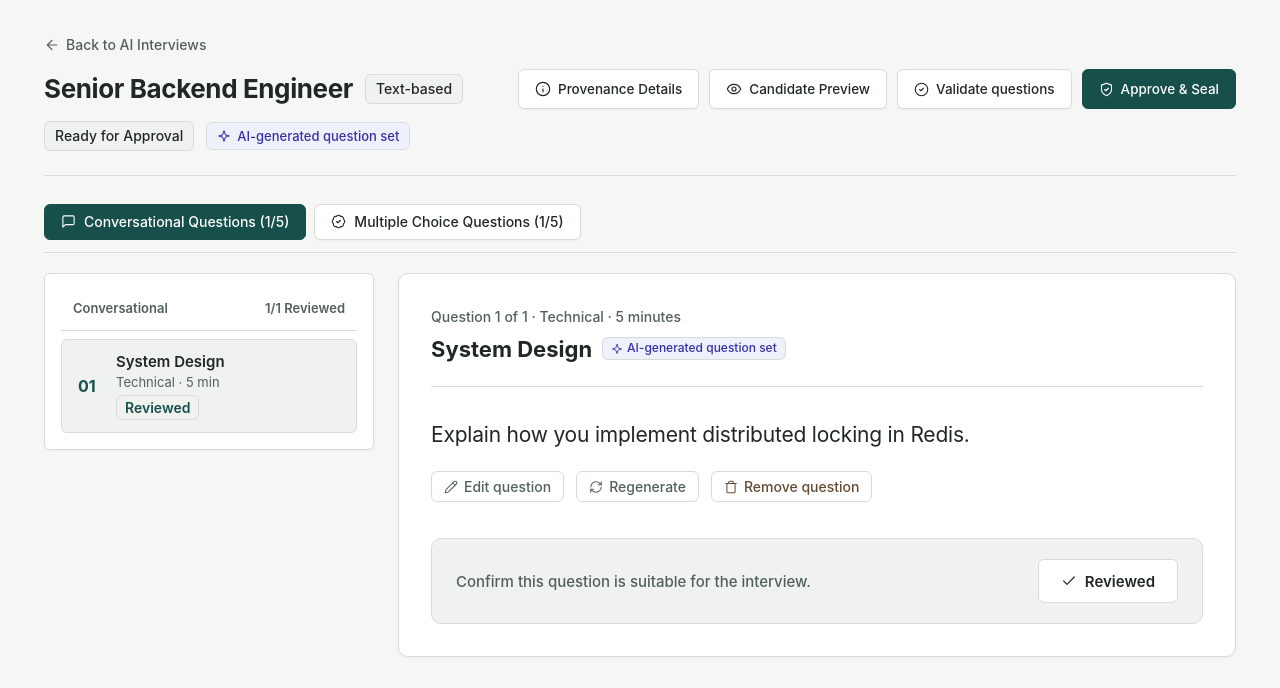
Test case: Phase 3G.1 Frontend Provenance & Release Eligibility › opens compact provenance details drawer when clicking View Provenance
Expected: the heading "Senior Backend Engineer" is shown, [44,69,353,109]
Click the button "Provenance Details". click: (609, 89)
box: [518,69,699,109]
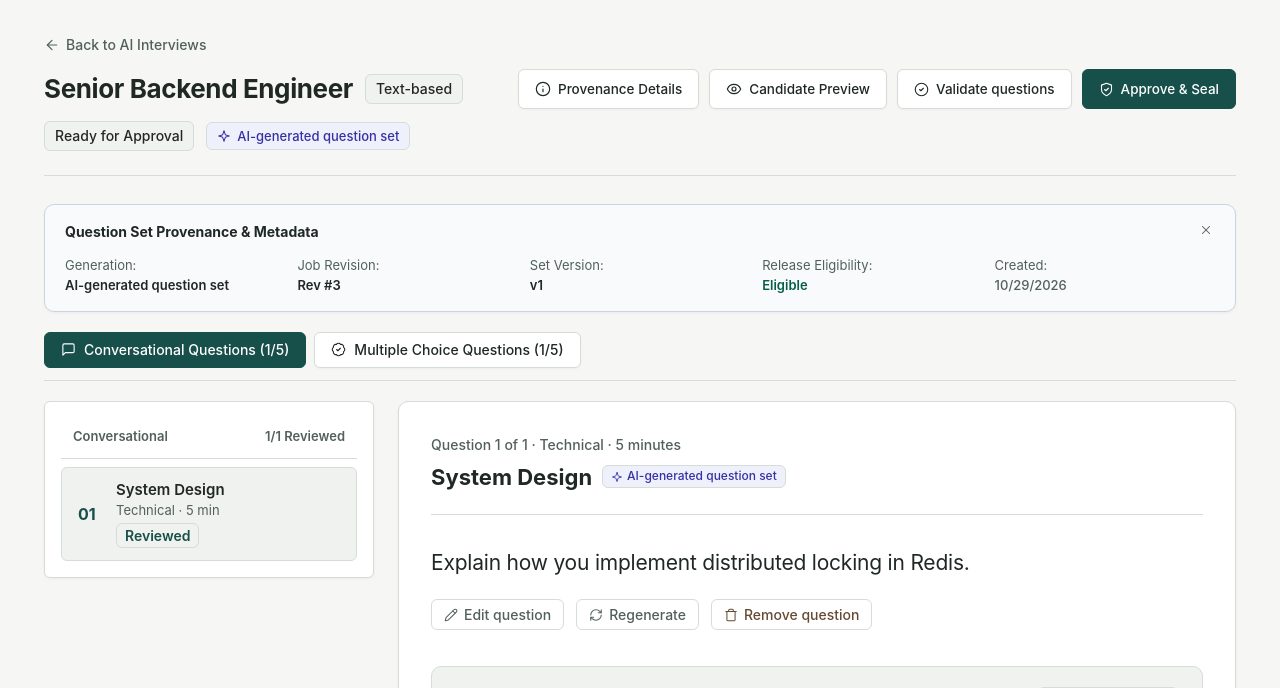
Expected: the text "Question Set Provenance & Metadata" is shown, [65,221,319,243]
